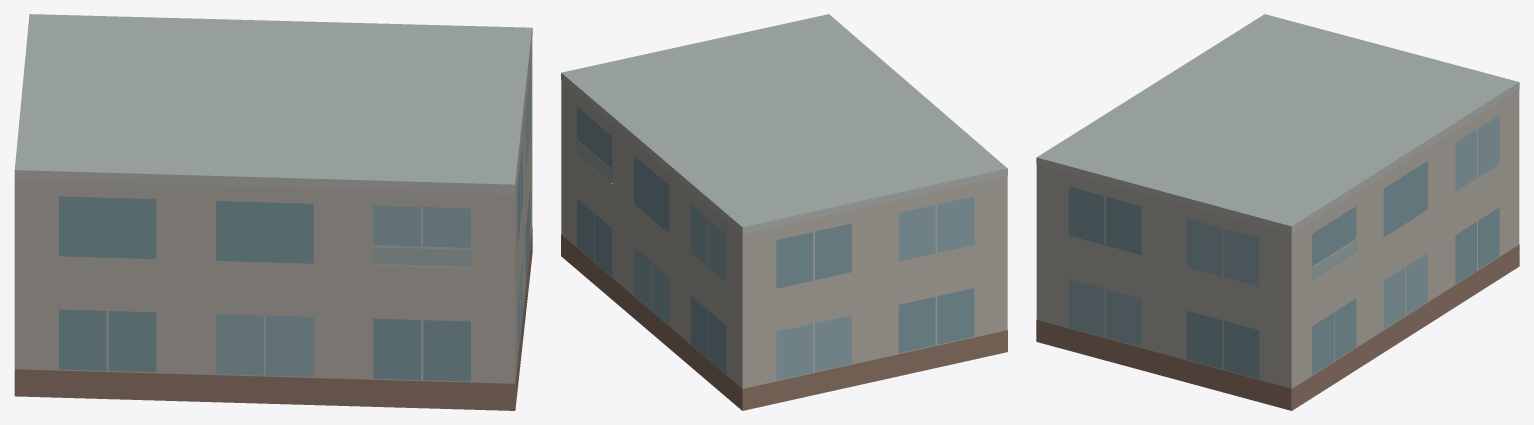
The model's file is survey-upis-32907375.glb.
The picture shows the model from 3 angles, left to right: view 1: azimuth 30°, elevation 25°; view 2: azimuth 150°, elevation 25°; view 3: azimuth 270°, elevation 25°; orthographic projection. The views are drawn at different scales.
Parts seen in each view (by area): view 1: survey-upis-32907375.tmp; view 2: survey-upis-32907375.tmp; view 3: survey-upis-32907375.tmp.
Boxes of the visible parts, x1,y1,x2,y2 form: survey-upis-32907375.tmp: (14,14,532,410); survey-upis-32907375.tmp: (561,14,1007,410); survey-upis-32907375.tmp: (1036,14,1519,410).
Size of the model in its own units: 15.08 by 6.1 by 14.48.
